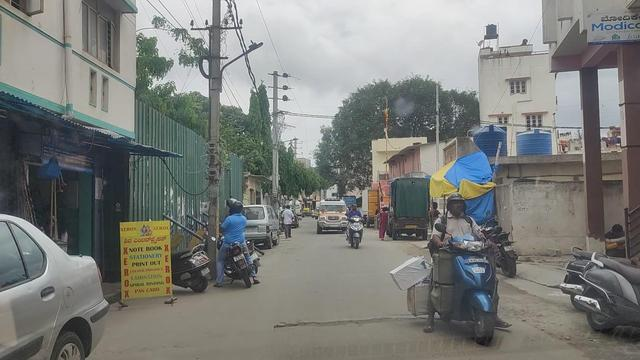LMV: (216, 197, 256, 290), (346, 204, 363, 249)
RoadDamages: (275, 308, 411, 335)
